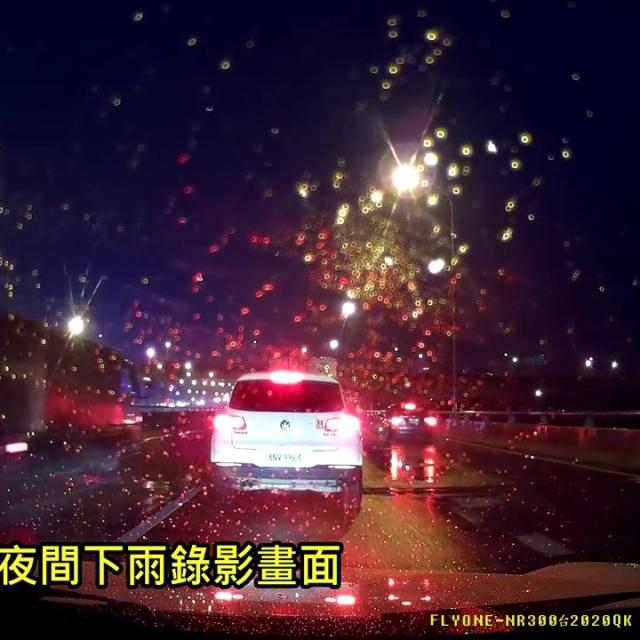Car: (206, 369, 362, 514), (376, 400, 435, 442)
